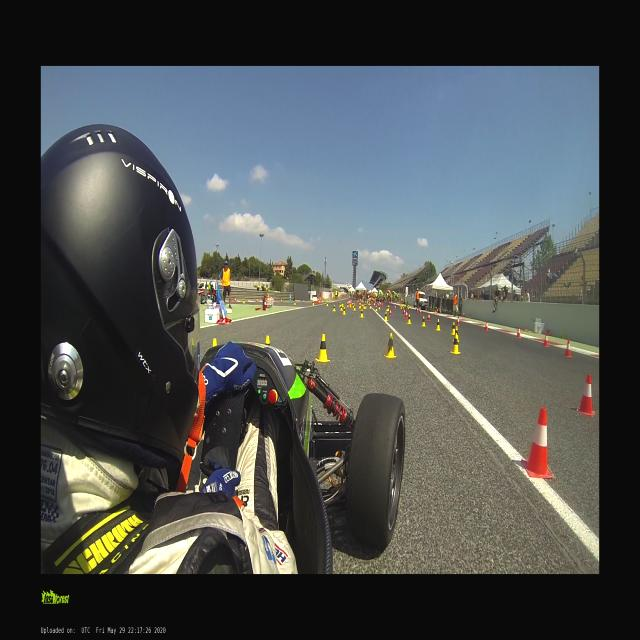orange_cone: (521, 408, 553, 478), (576, 374, 595, 416), (564, 340, 572, 358), (542, 333, 548, 347), (516, 326, 520, 338), (484, 320, 488, 330), (426, 313, 431, 321), (404, 311, 408, 319), (388, 308, 392, 316), (402, 308, 406, 316), (418, 309, 422, 315), (462, 312, 465, 318), (458, 318, 460, 326), (280, 299, 283, 303), (255, 298, 258, 302), (416, 308, 418, 312)
unknown_cone: (288, 292, 292, 302)
yellow_cone: (316, 334, 330, 362), (384, 333, 396, 358), (450, 334, 460, 354), (435, 318, 441, 331), (454, 327, 458, 341), (421, 316, 426, 326), (452, 322, 456, 334), (383, 312, 388, 321), (407, 314, 411, 324), (359, 310, 364, 318), (266, 335, 270, 345), (332, 304, 336, 312), (212, 338, 216, 346), (342, 308, 347, 314), (374, 306, 378, 310), (293, 300, 296, 304), (340, 306, 343, 310), (354, 305, 356, 311), (469, 312, 471, 318), (386, 305, 388, 311), (312, 300, 314, 306), (347, 303, 349, 307), (326, 302, 328, 306), (378, 305, 380, 309), (243, 298, 245, 302)
